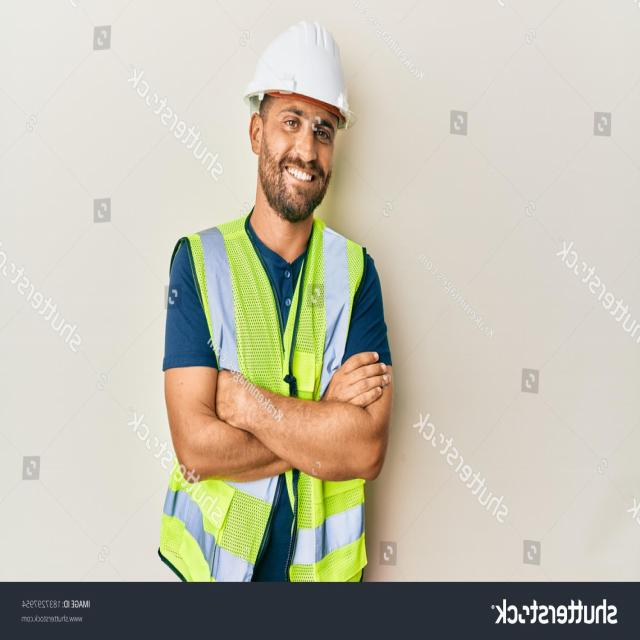Reflective-Jacket: (155, 217, 369, 575)
Safety-Helmet: (240, 18, 360, 126)
